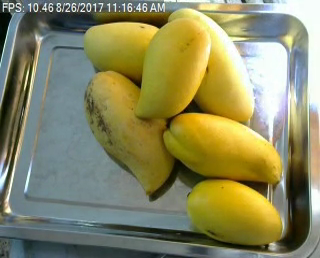Mango: (84, 70, 176, 192), (167, 7, 252, 120), (161, 112, 282, 182), (136, 20, 210, 116), (188, 179, 282, 243), (83, 21, 165, 83)
